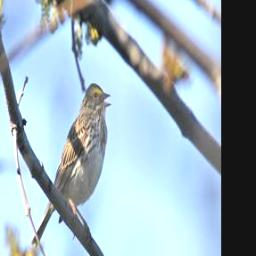Sparrow: (29, 80, 111, 249)
